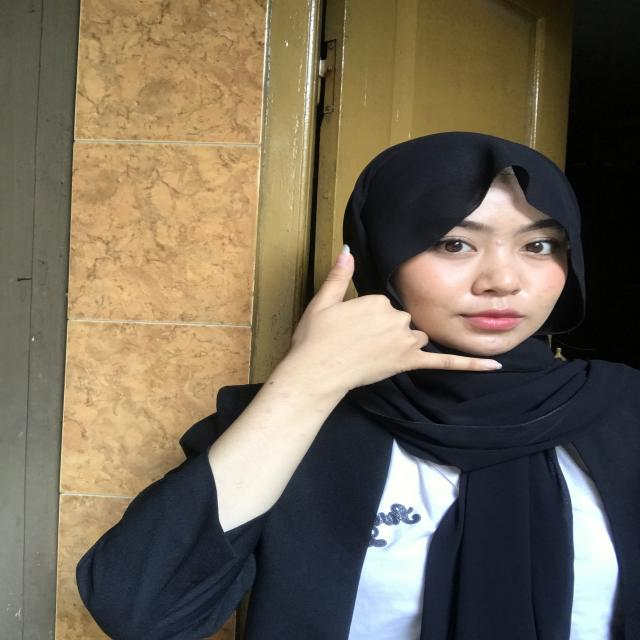telpon: (240, 242, 510, 390)
